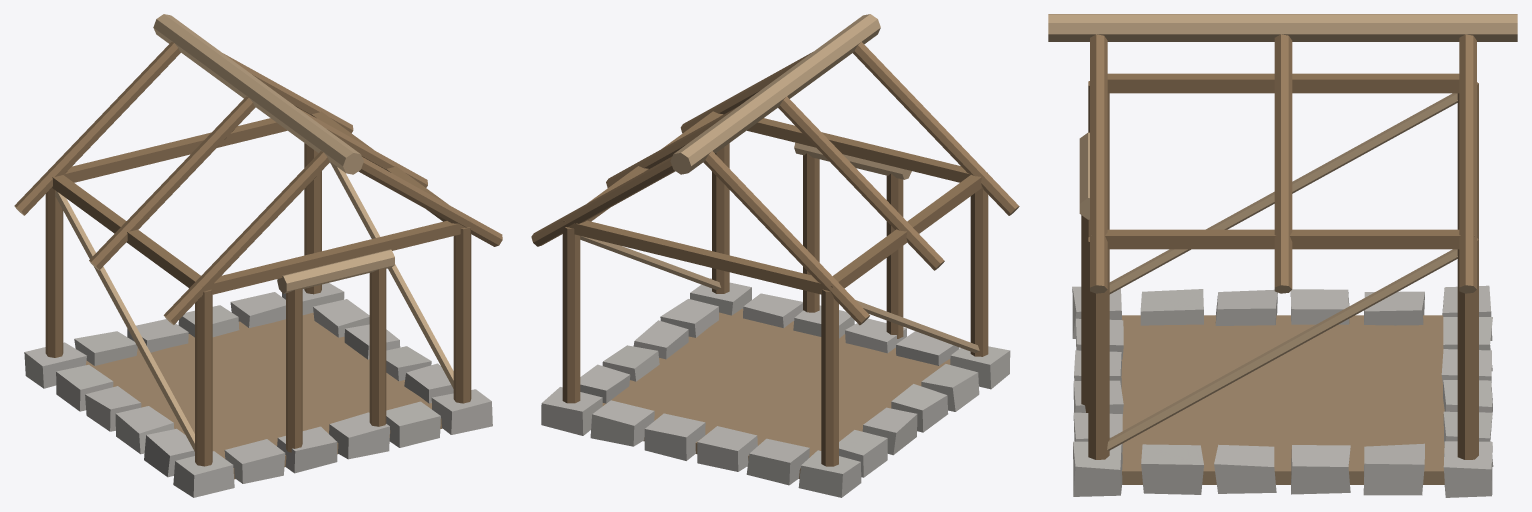
File: building_log_house_frame.glb
3 views of the same model, side by side, from view 1: azimuth 30°, elevation 25°; view 2: azimuth 150°, elevation 25°; view 3: azimuth 270°, elevation 25° (orthographic). The views are drawn at different scales.
Parts seen in each view (by area): view 1: building_log_house_frame; view 2: building_log_house_frame; view 3: building_log_house_frame.
Part boxes in pixels (bbox=[...]): building_log_house_frame: bbox=[14, 14, 502, 497]; building_log_house_frame: bbox=[531, 14, 1019, 497]; building_log_house_frame: bbox=[1048, 14, 1517, 497].
Bounding box in the file's own units: 3.85 × 3.47 × 3.76.
